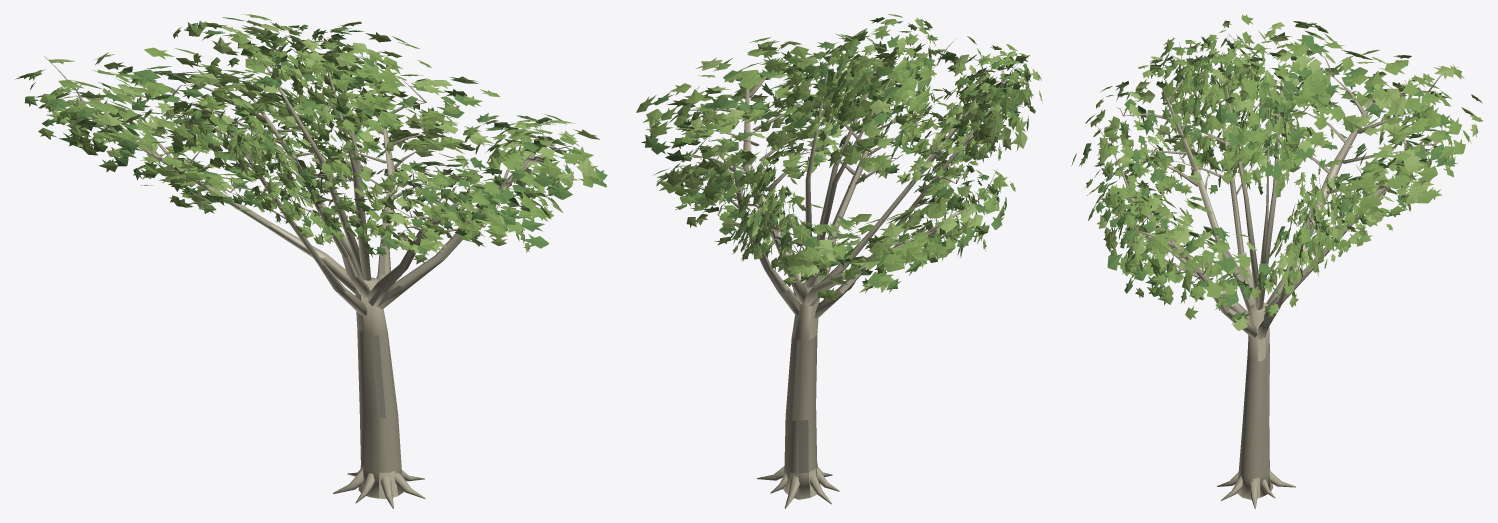
3 renders of one model, left to right at view 1: azimuth 30°, elevation 25°; view 2: azimuth 150°, elevation 25°; view 3: azimuth 270°, elevation 25°, orthographic. The views are drawn at different scales.
Parts seen in each view (by area): view 1: tree_plane_c_PlaneLeaf, tree_plane_c_PlaneBark, tree_plane_c_PlaneLeafDark, tree_plane_c_PlaneLeafLight, tree_plane_c_PlaneBarkPale, tree_plane_c_PlaneBarkBrown; view 2: tree_plane_c_PlaneLeaf, tree_plane_c_PlaneLeafLight, tree_plane_c_PlaneBark, tree_plane_c_PlaneLeafDark, tree_plane_c_PlaneBarkPale, tree_plane_c_PlaneBarkBrown; view 3: tree_plane_c_PlaneLeaf, tree_plane_c_PlaneLeafDark, tree_plane_c_PlaneBark, tree_plane_c_PlaneLeafLight, tree_plane_c_PlaneBarkPale, tree_plane_c_PlaneBarkBrown.
Boxes of the visible parts, x1,y1,x2,y2 form: tree_plane_c_PlaneLeaf: (15,14,603,257); tree_plane_c_PlaneBark: (44,51,575,508); tree_plane_c_PlaneLeafDark: (24,17,607,257); tree_plane_c_PlaneLeafLight: (46,20,597,264); tree_plane_c_PlaneBarkPale: (96,121,531,498); tree_plane_c_PlaneBarkBrown: (241,146,424,417); tree_plane_c_PlaneLeaf: (636,14,1041,301); tree_plane_c_PlaneLeafLight: (656,26,1042,292); tree_plane_c_PlaneBark: (677,38,1023,508); tree_plane_c_PlaneLeafDark: (641,17,1033,292); tree_plane_c_PlaneBarkPale: (734,89,937,499); tree_plane_c_PlaneBarkBrown: (746,110,971,473); tree_plane_c_PlaneLeaf: (1071,14,1483,319); tree_plane_c_PlaneLeafDark: (1083,34,1458,323); tree_plane_c_PlaneBark: (1095,34,1457,508); tree_plane_c_PlaneLeafLight: (1097,20,1478,330); tree_plane_c_PlaneBarkPale: (1129,78,1386,499); tree_plane_c_PlaneBarkBrown: (1163,80,1373,329).
Bounding box in the file's own units: 12.49 × 12.61 × 11.49.
